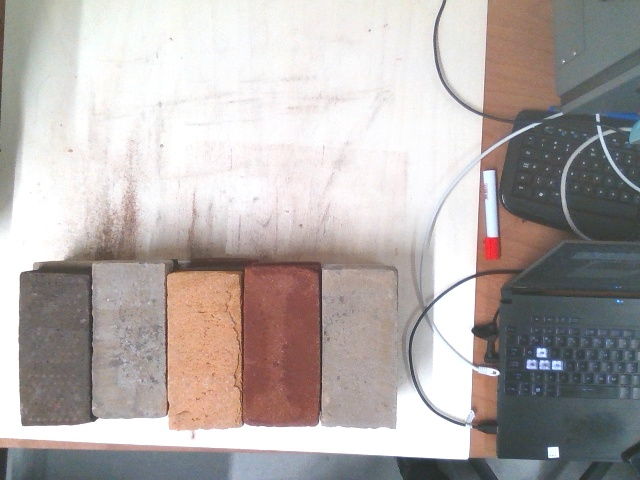brick: (320, 273, 399, 424), (166, 274, 242, 428), (243, 272, 318, 422), (90, 265, 163, 415), (17, 270, 88, 422)
